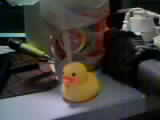duck: (47, 57, 90, 94)
